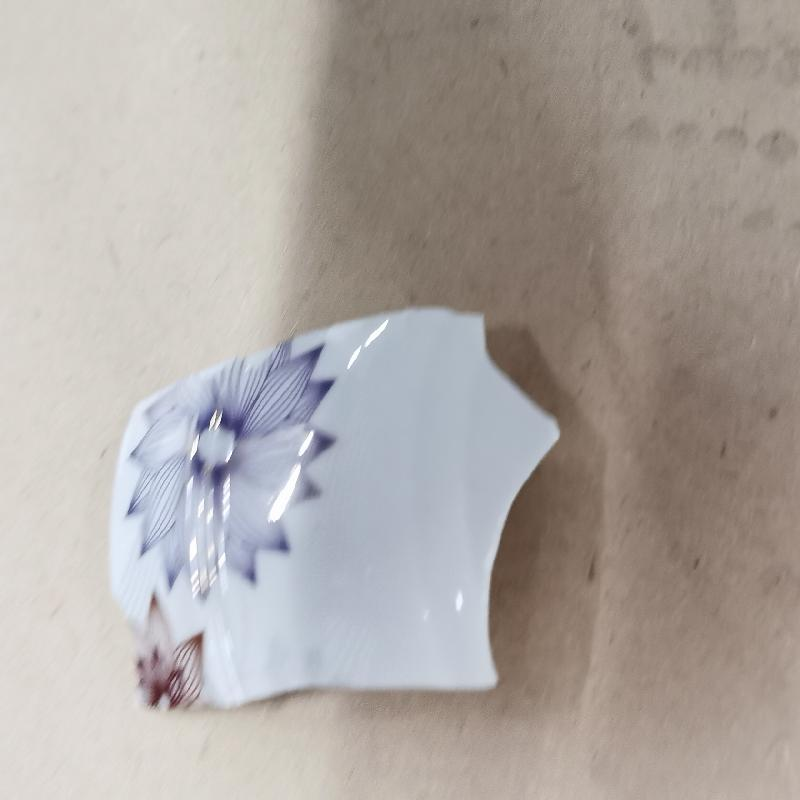ceram: (104, 301, 564, 724)
